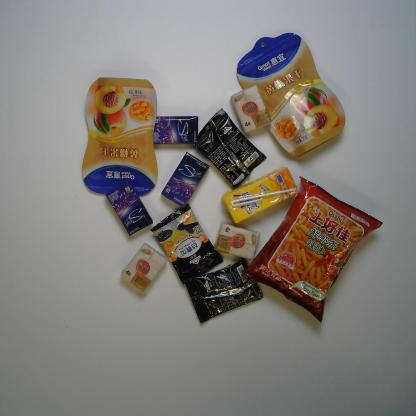Dried Fruit: (233, 29, 347, 158), (79, 74, 161, 198)
Drink: (219, 163, 301, 227)
Gum: (158, 149, 212, 210), (103, 179, 154, 239), (148, 114, 200, 147)
Instant Drink: (148, 201, 225, 288), (193, 105, 268, 191), (182, 254, 266, 326)
Puffed Food: (239, 174, 384, 324)
Tissue: (118, 238, 170, 298), (227, 83, 274, 135), (214, 220, 262, 262)
